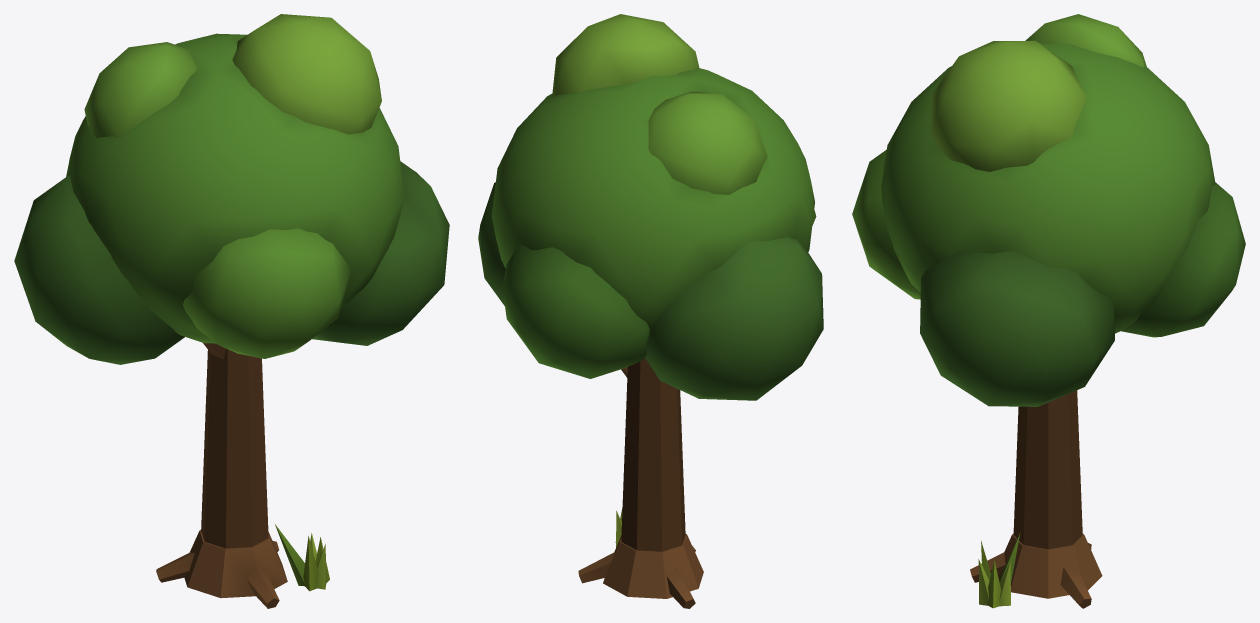
Rendered from n_tree_small.glb.
The picture shows the model from 3 angles, left to right: view 1: azimuth 30°, elevation 25°; view 2: azimuth 150°, elevation 25°; view 3: azimuth 270°, elevation 25°; orthographic projection. The views are drawn at different scales.
Visible parts, largest first — view 1: sway_crown, body; view 2: sway_crown, body; view 3: sway_crown, body.
Boxes of the visible parts, <box> form: sway_crown: <box>14,14,449,364</box>; body: <box>156,343,329,608</box>; sway_crown: <box>478,14,823,400</box>; body: <box>578,357,703,608</box>; sway_crown: <box>852,14,1245,406</box>; body: <box>970,390,1102,608</box>.
Size of the model in its own units: 2.81 by 4.09 by 2.61.
